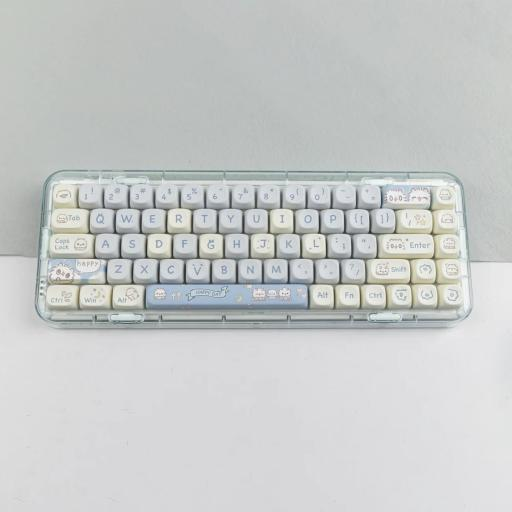keyboard: (31, 160, 483, 336)
